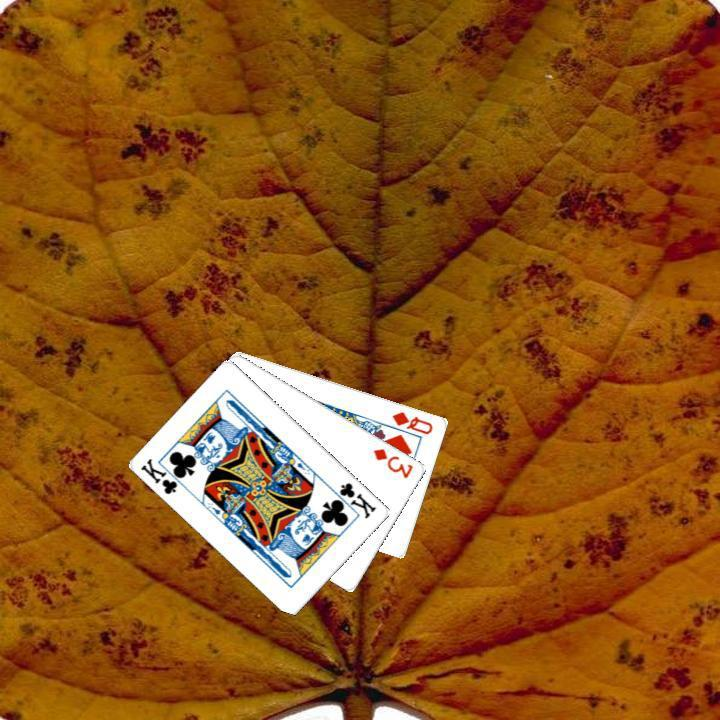3: (369, 444, 416, 481)
K: (327, 478, 379, 521), (137, 454, 189, 497)
Q: (388, 407, 435, 436)
